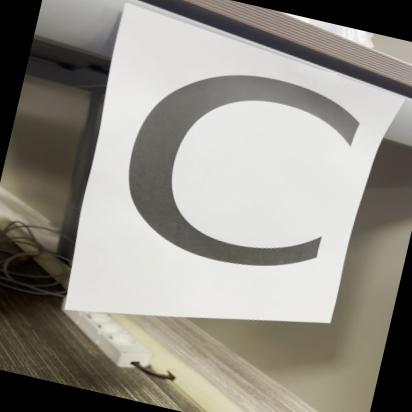seat: (66, 11, 384, 317)
